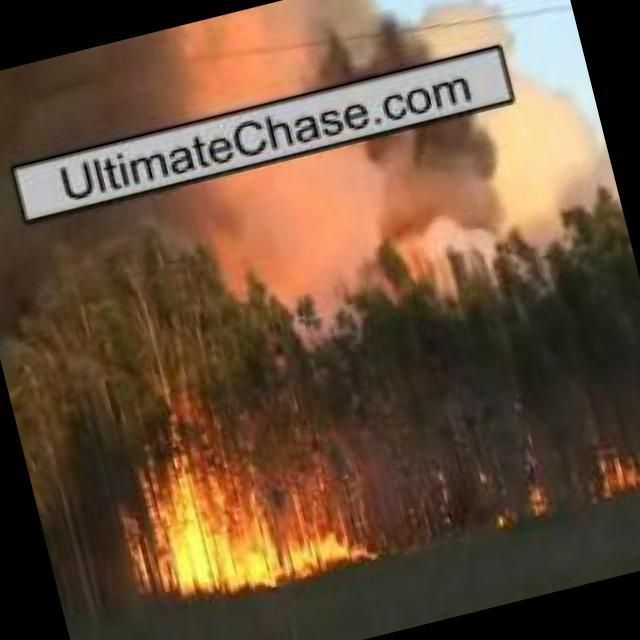Fire: (154, 451, 366, 611), (486, 479, 568, 532), (596, 450, 640, 505)
